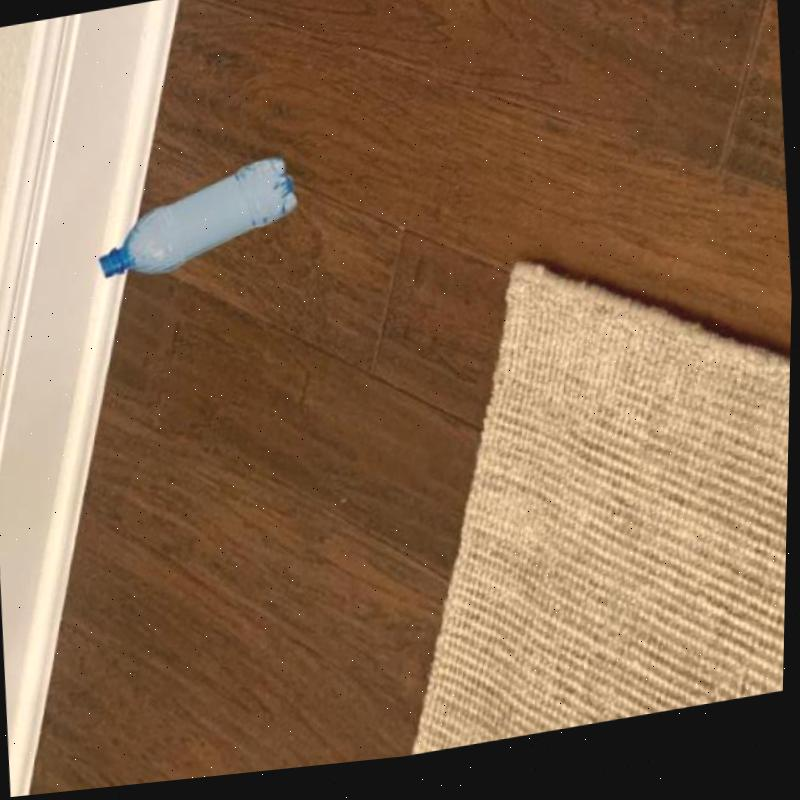botella: (93, 155, 300, 287)
